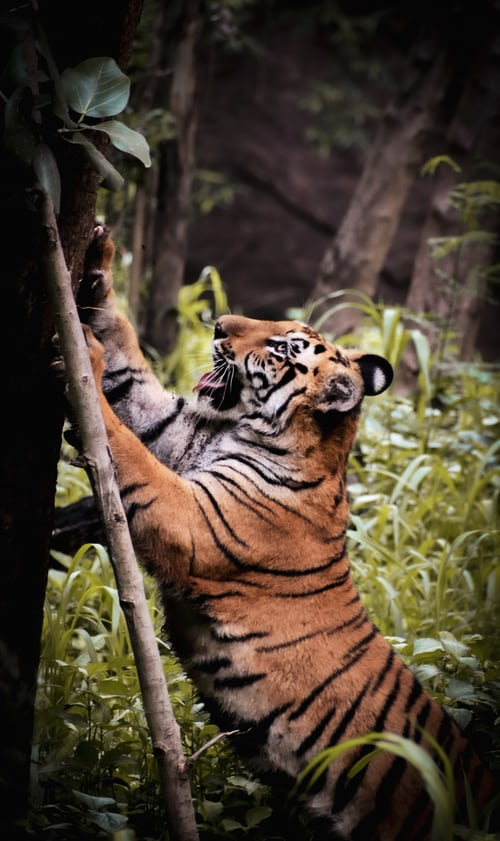tiger: (180, 301, 390, 447)
